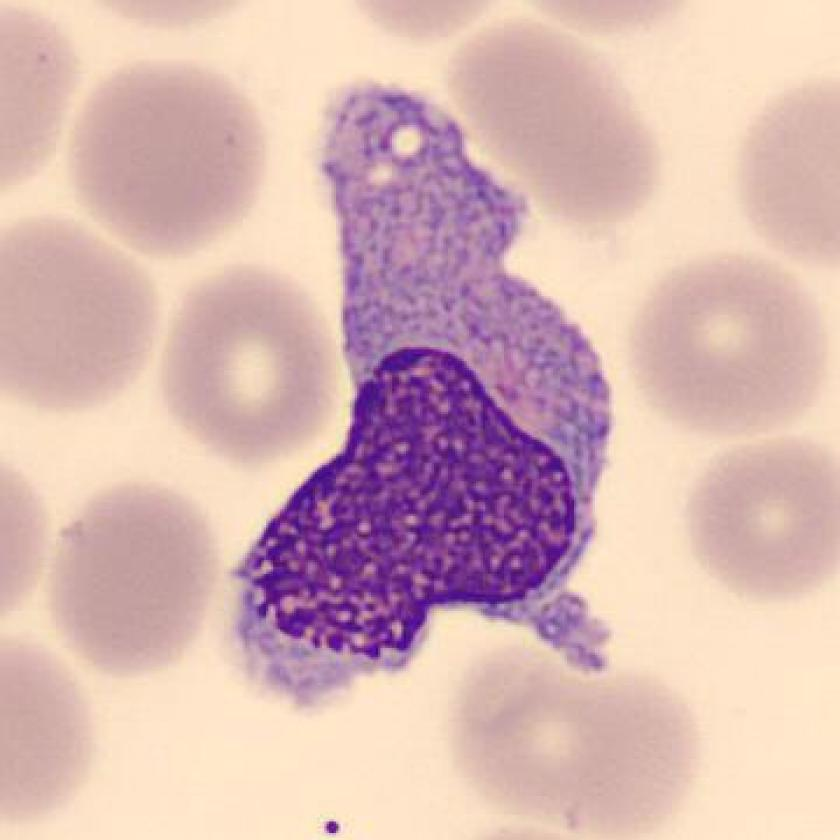monocyte: (197, 68, 659, 730)
